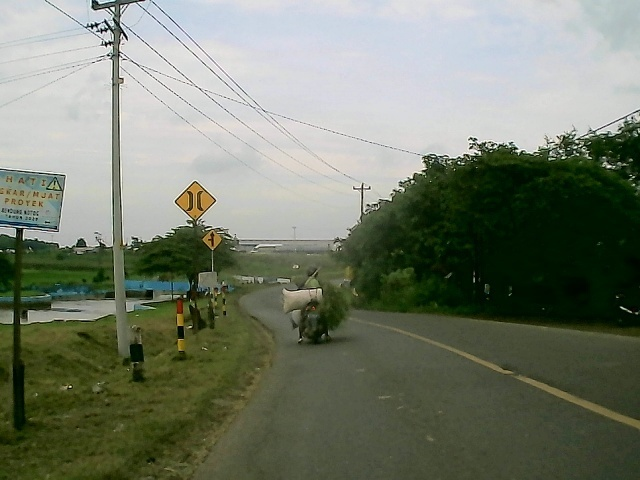Jembatan: (172, 179, 220, 224)
Simpang kiri dengan prioritas: (199, 228, 224, 253)
